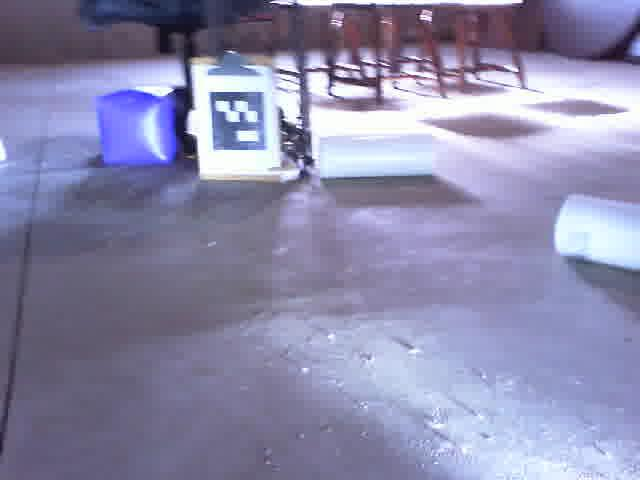coral: (555, 194, 640, 272), (320, 131, 437, 178)
